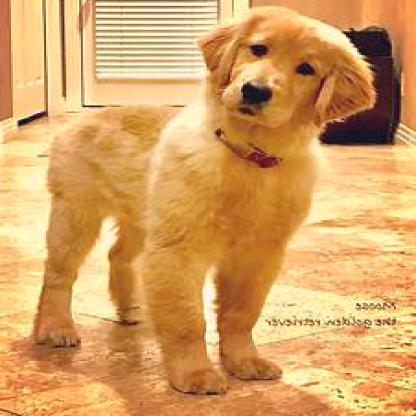dog: (31, 3, 378, 394)
